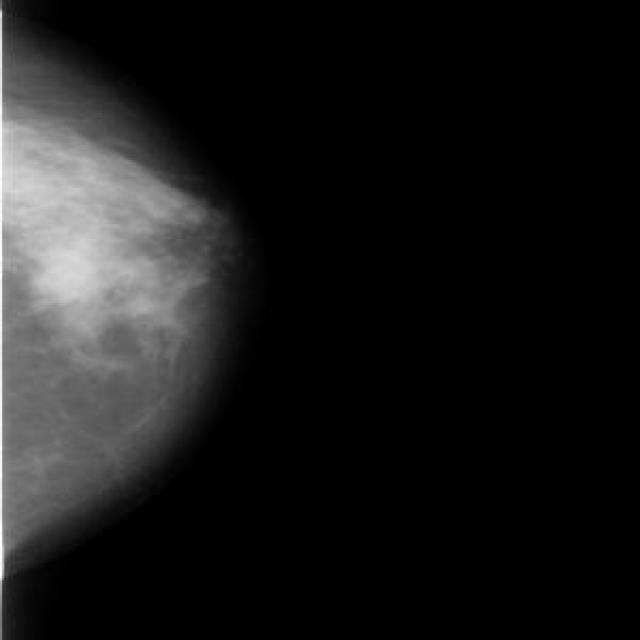tumor: (16, 123, 189, 334)
